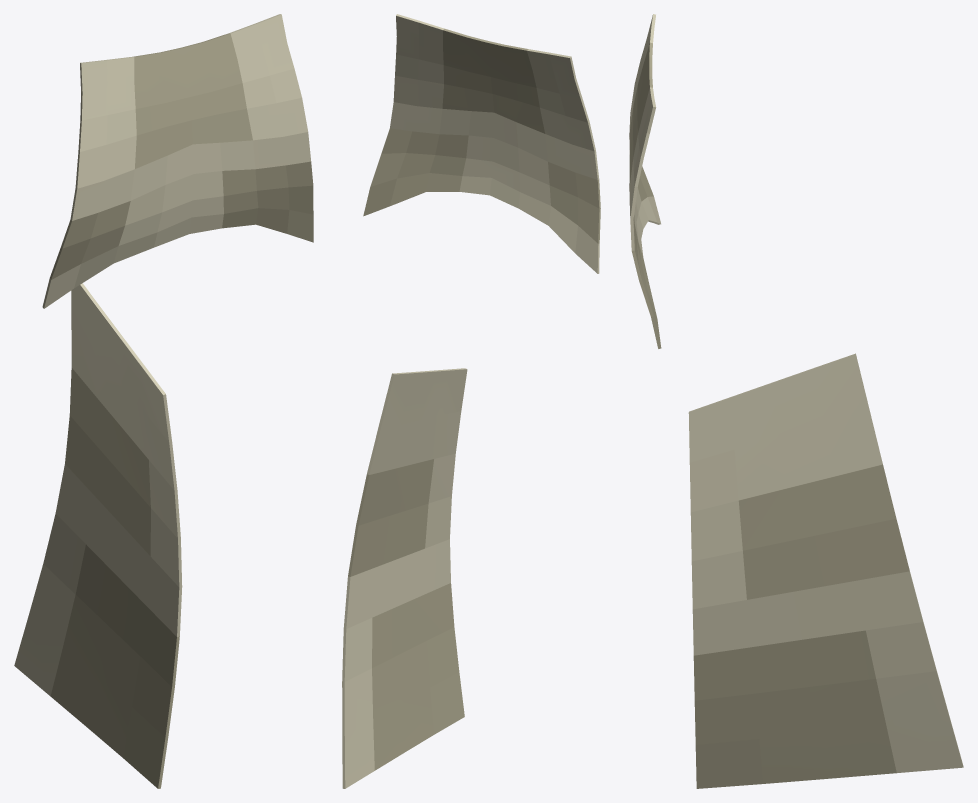
The model's file is MediumShip_2_Sails2.fbx.
3 views of the same model, side by side, from view 1: azimuth 30°, elevation 25°; view 2: azimuth 150°, elevation 25°; view 3: azimuth 270°, elevation 25° (orthographic). The views are drawn at different scales.
Parts seen in each view (by area): view 1: MediumShip_2_Sails2; view 2: MediumShip_2_Sails2; view 3: MediumShip_2_Sails2.
Boxes of the visible parts, <box> form: MediumShip_2_Sails2: <box>14,14,313,788</box>; MediumShip_2_Sails2: <box>342,14,600,788</box>; MediumShip_2_Sails2: <box>629,14,963,788</box>.
Bounding box in the file's own units: 650 × 1765 × 735.
